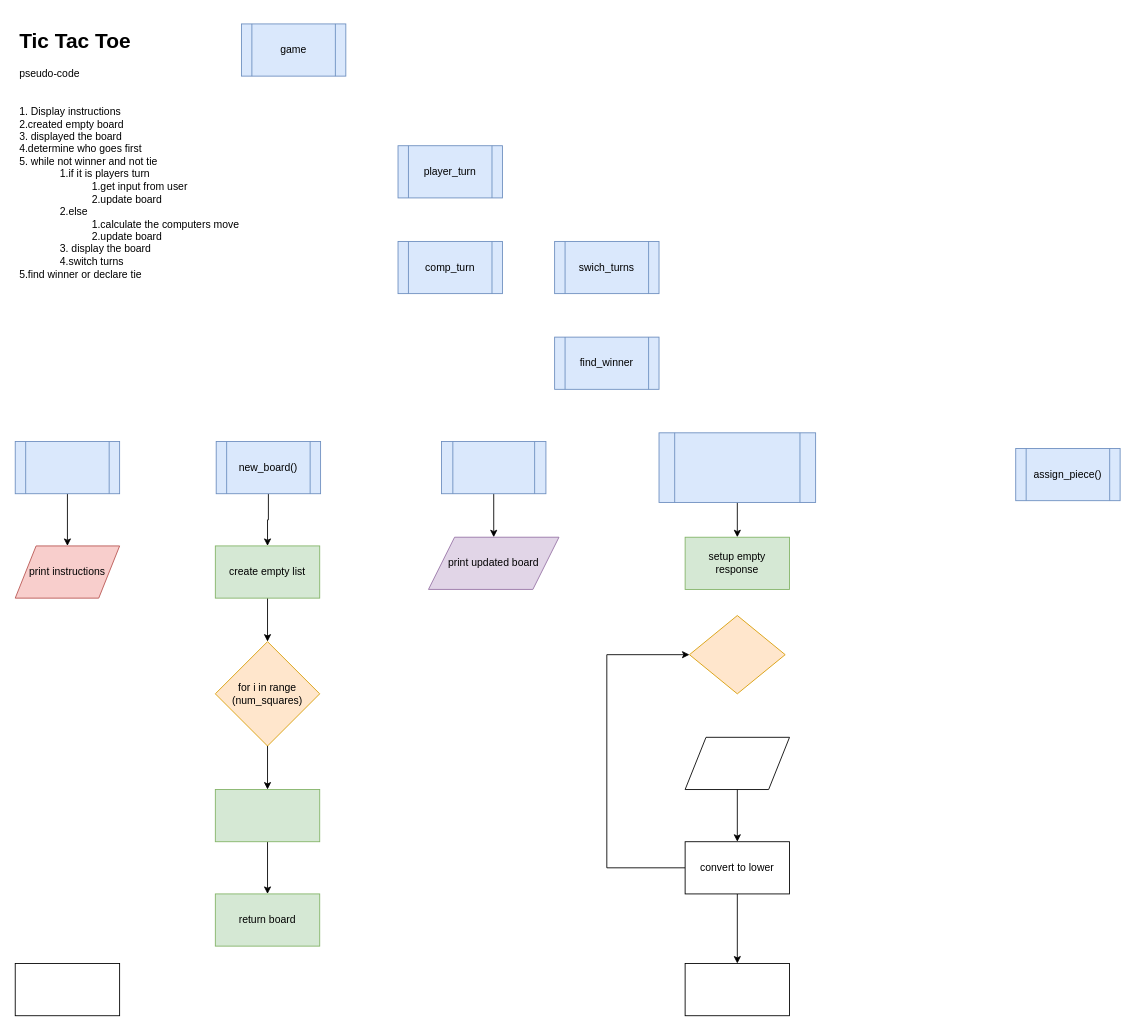
Image size: 1135x1031. Some labels were removed from this diagram. The centre of each missing label's shape, as x and y in pixels:
append empty: the point at 267,815
ask_yes_no(question): the point at 737,467
display_board: the point at 493,467
get response to (question): the point at 737,763
instructions: the point at 67,467
return yes or no: the point at 737,989
while not y on n: the point at 737,654
